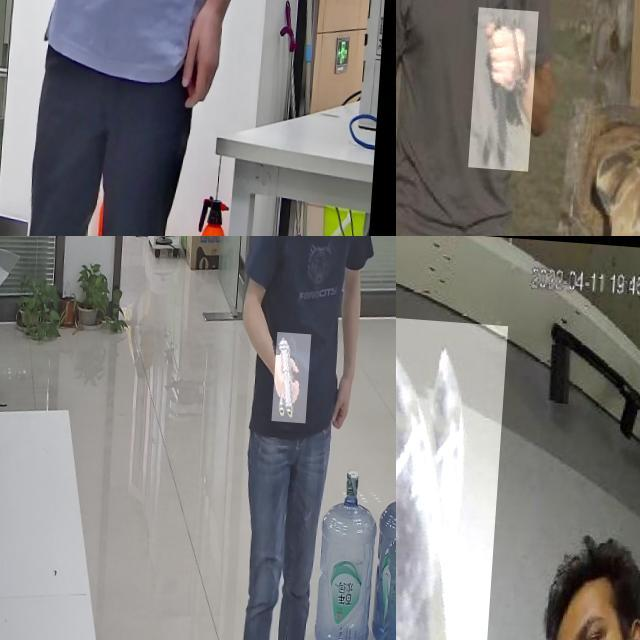-: (396, 309, 509, 640), (475, 2, 543, 166)
gun-knife-thesis - v11 Yolov5 augmented: (61, 0, 124, 66), (276, 327, 315, 418)
